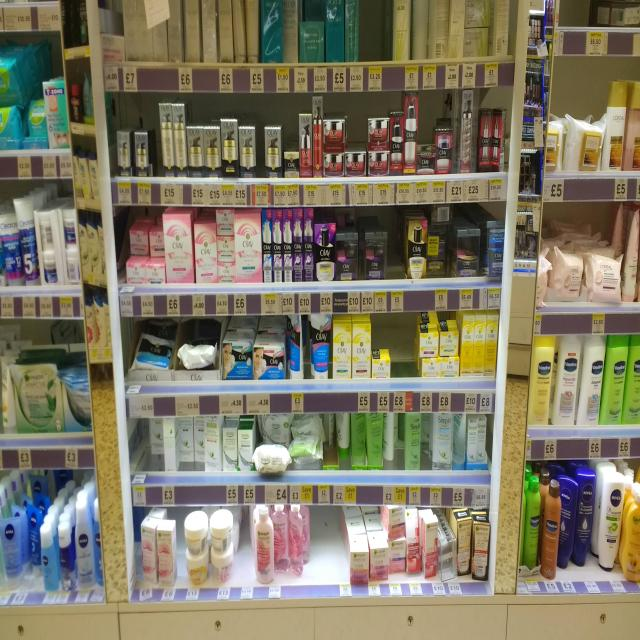unorganised: (385, 507, 422, 582), (135, 520, 175, 589), (271, 508, 305, 587), (385, 412, 429, 468), (60, 368, 92, 435), (452, 414, 487, 470), (580, 476, 598, 580), (428, 206, 455, 274), (561, 480, 579, 582), (320, 415, 350, 472), (254, 428, 290, 472), (175, 420, 206, 470), (466, 1, 493, 58), (135, 331, 173, 370), (291, 421, 321, 470), (286, 315, 307, 380), (126, 226, 163, 262), (24, 512, 40, 592), (179, 338, 216, 372), (430, 1, 448, 59), (412, 1, 429, 61), (145, 419, 164, 472), (164, 422, 177, 472)
